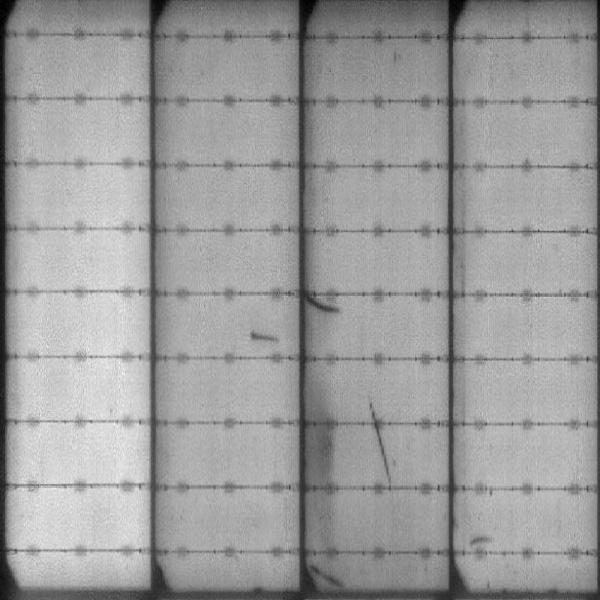scratch: (368, 399, 396, 487), (310, 559, 349, 589), (303, 294, 341, 316), (249, 330, 280, 345), (469, 535, 494, 550)
